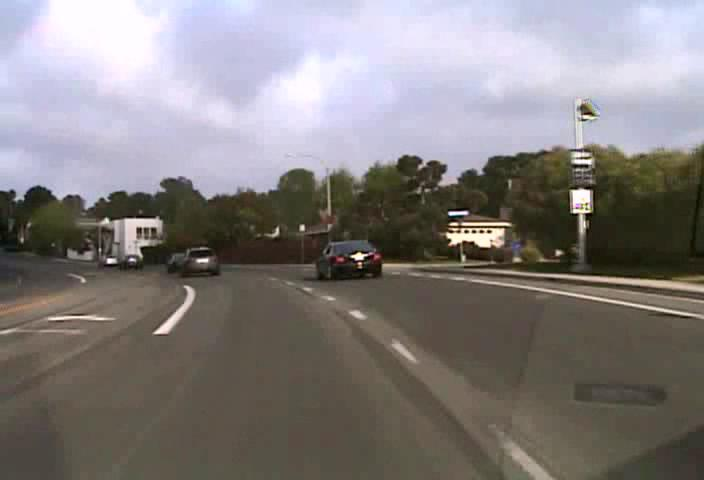speedLimitUrdbl: (569, 188, 594, 213)
